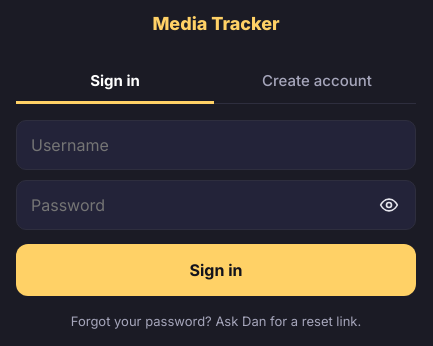
Scenario: sign-ups (AD2) › Create account says sign-ups are closed, and Sign in still works
This screenshot has width=433, height=346.
Closed: it opens on Sign in.
Click the tab "Create account": {"x": 317, "y": 82} top-left (218, 60), bottom-right (416, 104)
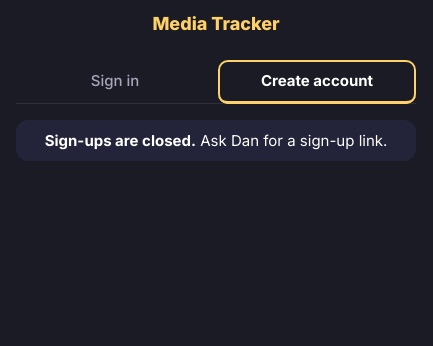
Expected: the text "Sign-ups are closed." is shown, top-left (45, 131), bottom-right (196, 150)
Expected: the text labelled "password" is gone
